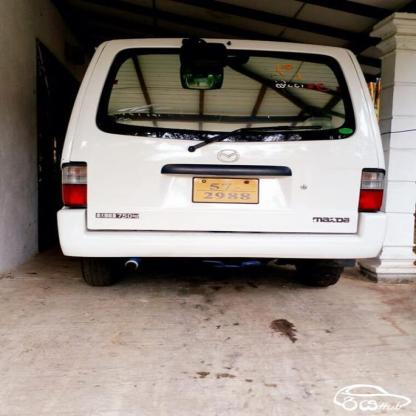number plate: (189, 175, 265, 208)
van back: (54, 30, 389, 289)
